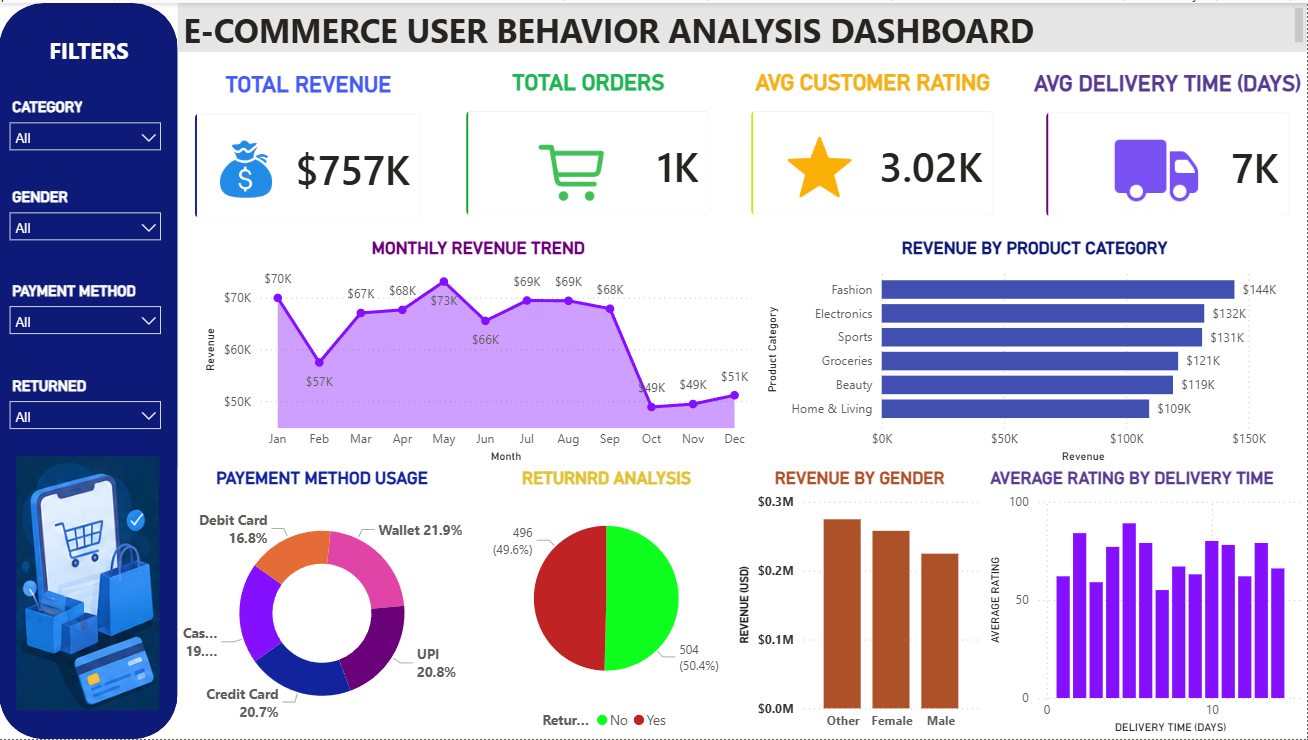

The page's visual inventory and layout, read from the dashboard file:
{"tool":"powerbi","page":{"name":"Page 1","canvas":[1280,720],"ordinal":0},"visuals":[{"type":"cardVisual","title":"TOTAL REVENUE ","fields":{"Data":["Sum(Ecommerce Customer Behavior Dataset.order_value_usd)"]},"box":[174.9,67.3,255.6,160.2],"z":0},{"type":"shape","box":[0,0,174.9,720.2],"z":1000},{"type":"cardVisual","title":"TOTAL ORDERS","fields":{"Data":["CountNonNull(Ecommerce Customer Behavior Dataset.order_id)"]},"box":[440.2,64.8,272.7,160.2],"z":2000},{"type":"cardVisual","title":"AVG CUSTOMER RATING","fields":{"Data":["Sum(Ecommerce Customer Behavior Dataset.customer_rating)"]},"box":[719,64.8,271.5,160.2],"z":3000},{"type":"cardVisual","title":"AVG DELIVERY TIME (DAYS)","fields":{"Data":["Sum(Ecommerce Customer Behavior Dataset.delivery_time_days)"]},"box":[1007.6,66,272.7,160.2],"z":4000},{"type":"lineChart","title":"MONTHLY REVENUE TREND","fields":{"Y":["Sum(Ecommerce Customer Behavior Dataset.order_value_usd)"],"Category":["Ecommerce Customer Behavior Dataset.Month"]},"box":[196.9,229.9,544.2,225],"z":5000},{"type":"clusteredBarChart","title":"REVENUE BY PRODUCT CATEGORY","fields":{"Category":["Ecommerce Customer Behavior Dataset.product_category"],"Y":["Sum(Ecommerce Customer Behavior Dataset.order_value_usd)"]},"box":[745.9,229.9,534.4,225],"z":6000},{"type":"textbox","box":[174.9,0,1105.4,47.7],"z":7000},{"type":"donutChart","title":"PAYEMENT METHOD USAGE","fields":{"Category":["Ecommerce Customer Behavior Dataset.payment_method"],"Y":["CountNonNull(Ecommerce Customer Behavior Dataset.order_id)"]},"box":[174.9,454.9,282.5,265.4],"z":8000},{"type":"pieChart","title":"RETURNRD ANALYSIS","fields":{"Category":["Ecommerce Customer Behavior Dataset.returned"],"Y":["CountNonNull(Ecommerce Customer Behavior Dataset.order_id)"]},"box":[469.6,454.9,249.5,265.4],"z":9000},{"type":"columnChart","title":"REVENUE BY GENDER","fields":{"Category":["Ecommerce Customer Behavior Dataset.customer_gender"],"Y":["Sum(Ecommerce Customer Behavior Dataset.order_value_usd)"]},"box":[719,454.9,245.8,265.4],"z":10000},{"type":"columnChart","title":"AVERAGE RATING BY DELIVERY TIME","fields":{"Category":["Ecommerce Customer Behavior Dataset.delivery_time_days"],"Y":["CountNonNull(Ecommerce Customer Behavior Dataset.customer_rating)"]},"box":[965,455,315,265],"z":11000},{"type":"slicer","fields":{"Values":["Ecommerce Customer Behavior Dataset.product_category"]},"box":[0,88,168.8,78.3],"z":12000},{"type":"slicer","fields":{"Values":["Ecommerce Customer Behavior Dataset.customer_gender"]},"box":[0,176.1,168.8,64.8],"z":13000},{"type":"slicer","fields":{"Values":["Ecommerce Customer Behavior Dataset.payment_method"]},"box":[0,267.8,168.8,64.8],"z":14000},{"type":"slicer","fields":{"Values":["Ecommerce Customer Behavior Dataset.returned"]},"box":[0,360.7,168.8,67.3],"z":15000},{"type":"textbox","box":[9.8,26.9,156.5,40.4],"z":16000},{"type":"image","box":[7.3,442.7,159,249.5],"z":17000},{"type":"image","box":[196.9,133.3,89.3,61.1],"z":18000},{"type":"image","box":[505,127.2,117.4,74.6],"z":19000},{"type":"image","box":[770.4,134.5,62.4,67.3],"z":20000},{"type":"image","box":[1085.9,112.5,92.9,81.9],"z":21000}]}

Visuals, with their boxes in screenshot pixels (x1, y1, x2, y2), scaled from the page's 1280x720 canvas onto the 1308x740 screenshot:
"TOTAL REVENUE " cardVisual: x1=179 y1=69 x2=440 y2=234
shape: x1=0 y1=0 x2=179 y2=739
"TOTAL ORDERS" cardVisual: x1=450 y1=67 x2=728 y2=231
"AVG CUSTOMER RATING" cardVisual: x1=735 y1=67 x2=1012 y2=231
"AVG DELIVERY TIME (DAYS)" cardVisual: x1=1030 y1=68 x2=1307 y2=232
"MONTHLY REVENUE TREND" lineChart: x1=201 y1=236 x2=757 y2=468
"REVENUE BY PRODUCT CATEGORY" clusteredBarChart: x1=762 y1=236 x2=1307 y2=468
textbox: x1=179 y1=0 x2=1307 y2=49
"PAYEMENT METHOD USAGE" donutChart: x1=179 y1=468 x2=467 y2=739
"RETURNRD ANALYSIS" pieChart: x1=480 y1=468 x2=735 y2=739
"REVENUE BY GENDER" columnChart: x1=735 y1=468 x2=986 y2=739
"AVERAGE RATING BY DELIVERY TIME" columnChart: x1=986 y1=468 x2=1307 y2=739
slicer - Ecommerce Customer Behavior Dataset.product_category: x1=0 y1=90 x2=172 y2=171
slicer - Ecommerce Customer Behavior Dataset.customer_gender: x1=0 y1=181 x2=172 y2=248
slicer - Ecommerce Customer Behavior Dataset.payment_method: x1=0 y1=275 x2=172 y2=342
slicer - Ecommerce Customer Behavior Dataset.returned: x1=0 y1=371 x2=172 y2=440
textbox: x1=10 y1=28 x2=170 y2=69
image: x1=7 y1=455 x2=170 y2=711
image: x1=201 y1=137 x2=292 y2=200
image: x1=516 y1=131 x2=636 y2=207
image: x1=787 y1=138 x2=851 y2=207
image: x1=1110 y1=116 x2=1205 y2=200
